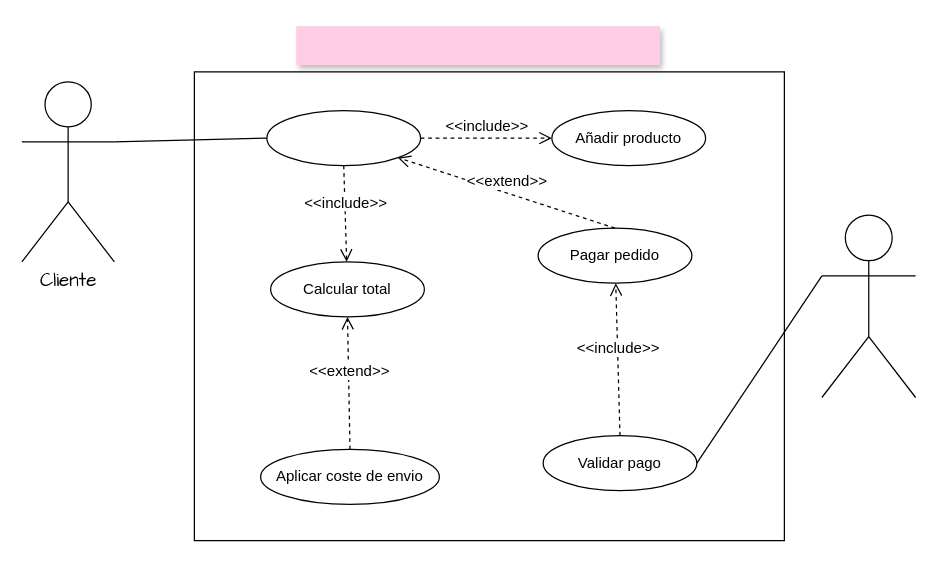
This 938x563 diagram has some shape labels left out. The centre of each missing label's shape, as x and y in pixels:
"Diagrama de Casos de uso" belongs at (479,47).
"Realizar pedido" belongs at (343,137).
"Sistema" belongs at (868,306).
